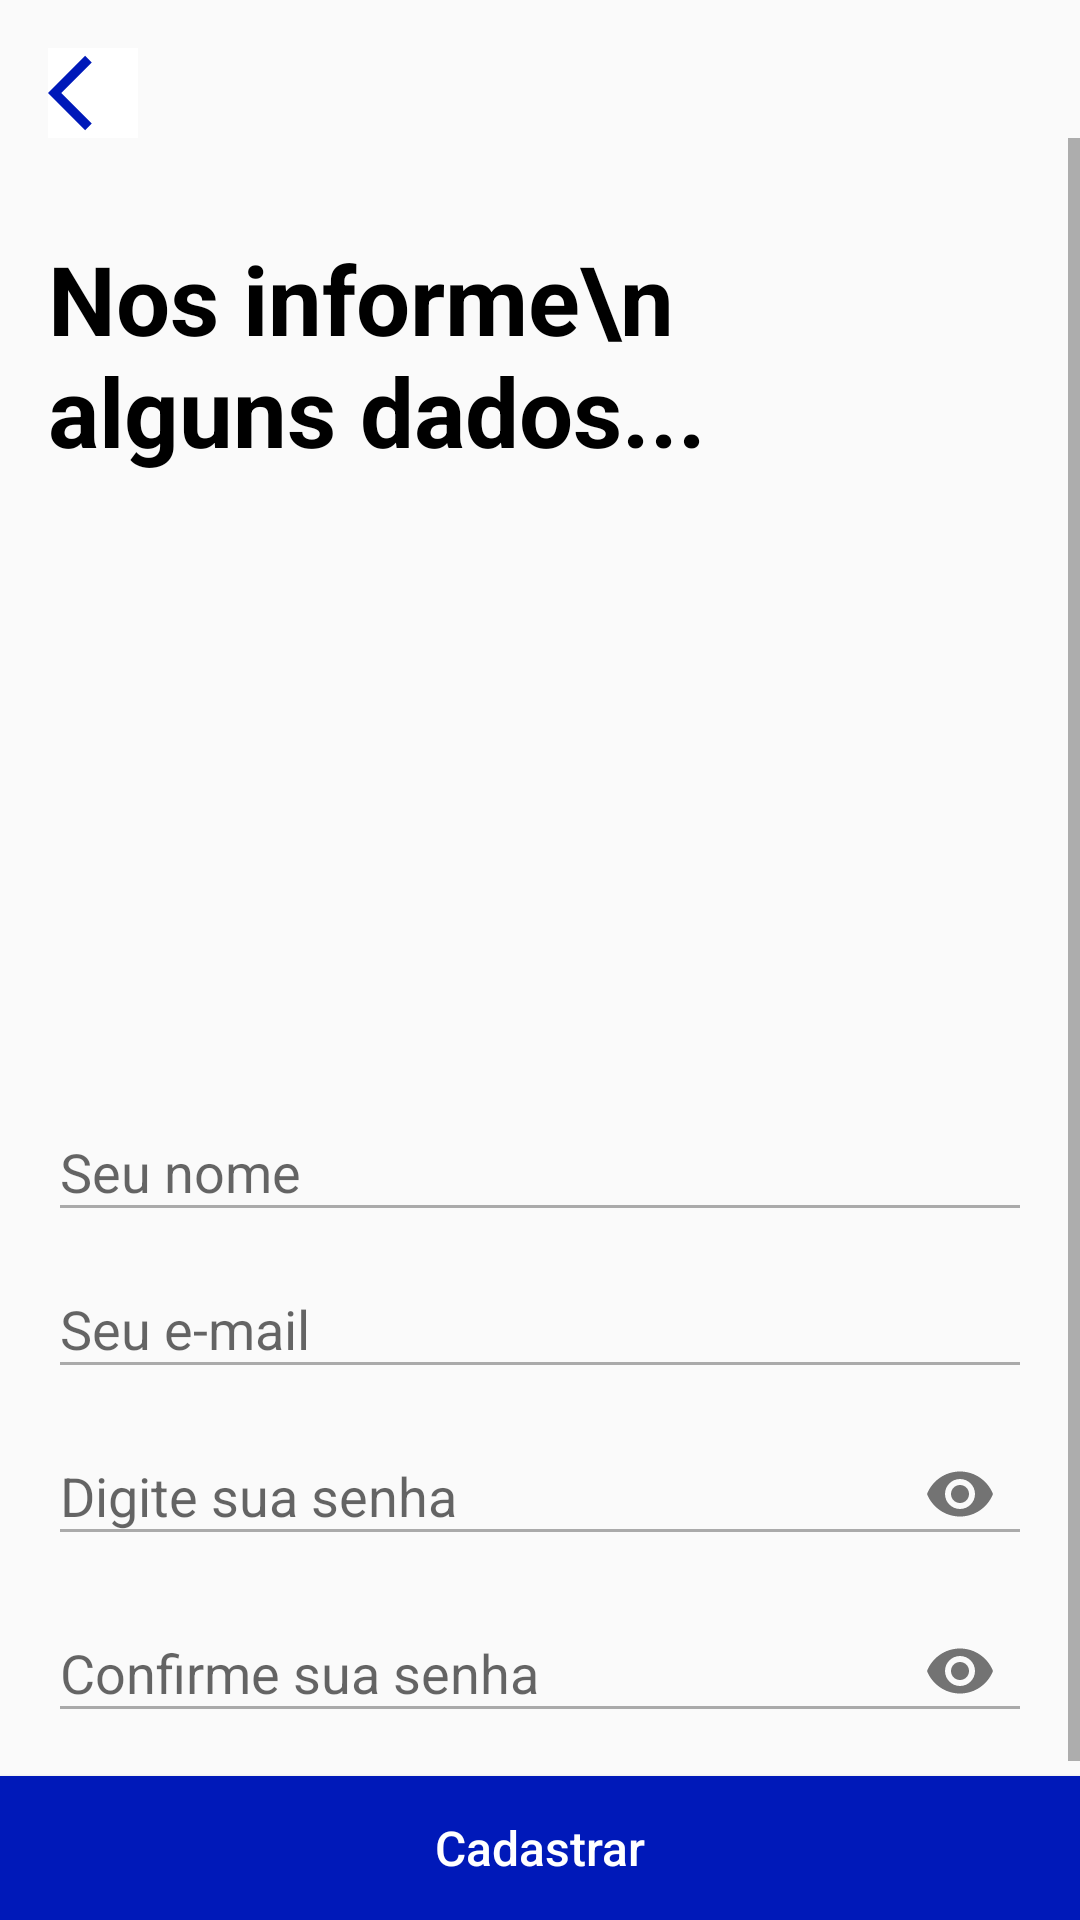

Where icons sit on this 1080px×1920px app screen, as box(x1, y1, x2, y2):
back: box(48, 56, 92, 130)
